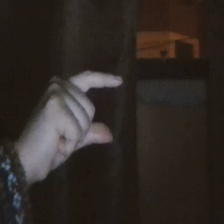G: (21, 62, 127, 183)
